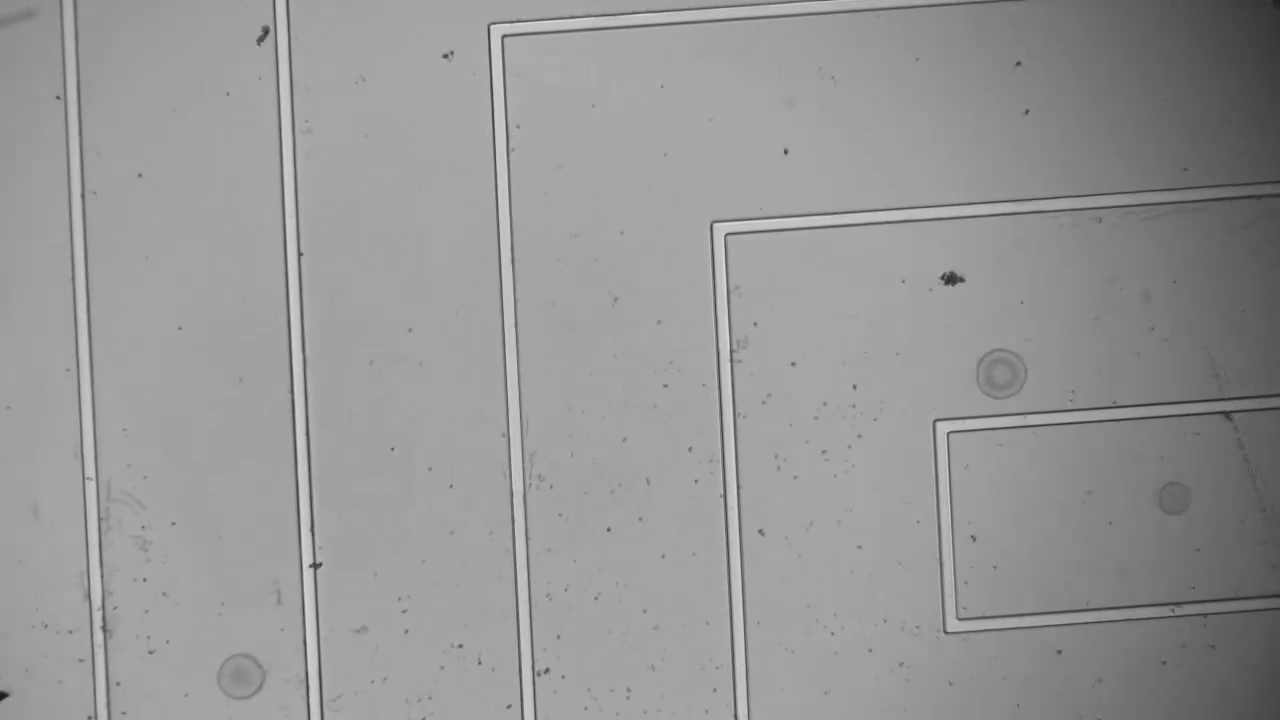scratch: (1210, 341, 1277, 540)
